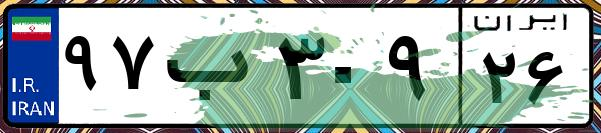0: (330, 28, 385, 110)
2: (475, 38, 525, 113)
3: (270, 28, 330, 110)
6: (525, 38, 570, 115)
7: (110, 28, 158, 98)
9: (385, 28, 445, 110), (57, 26, 110, 100)
ب: (158, 20, 270, 120)
